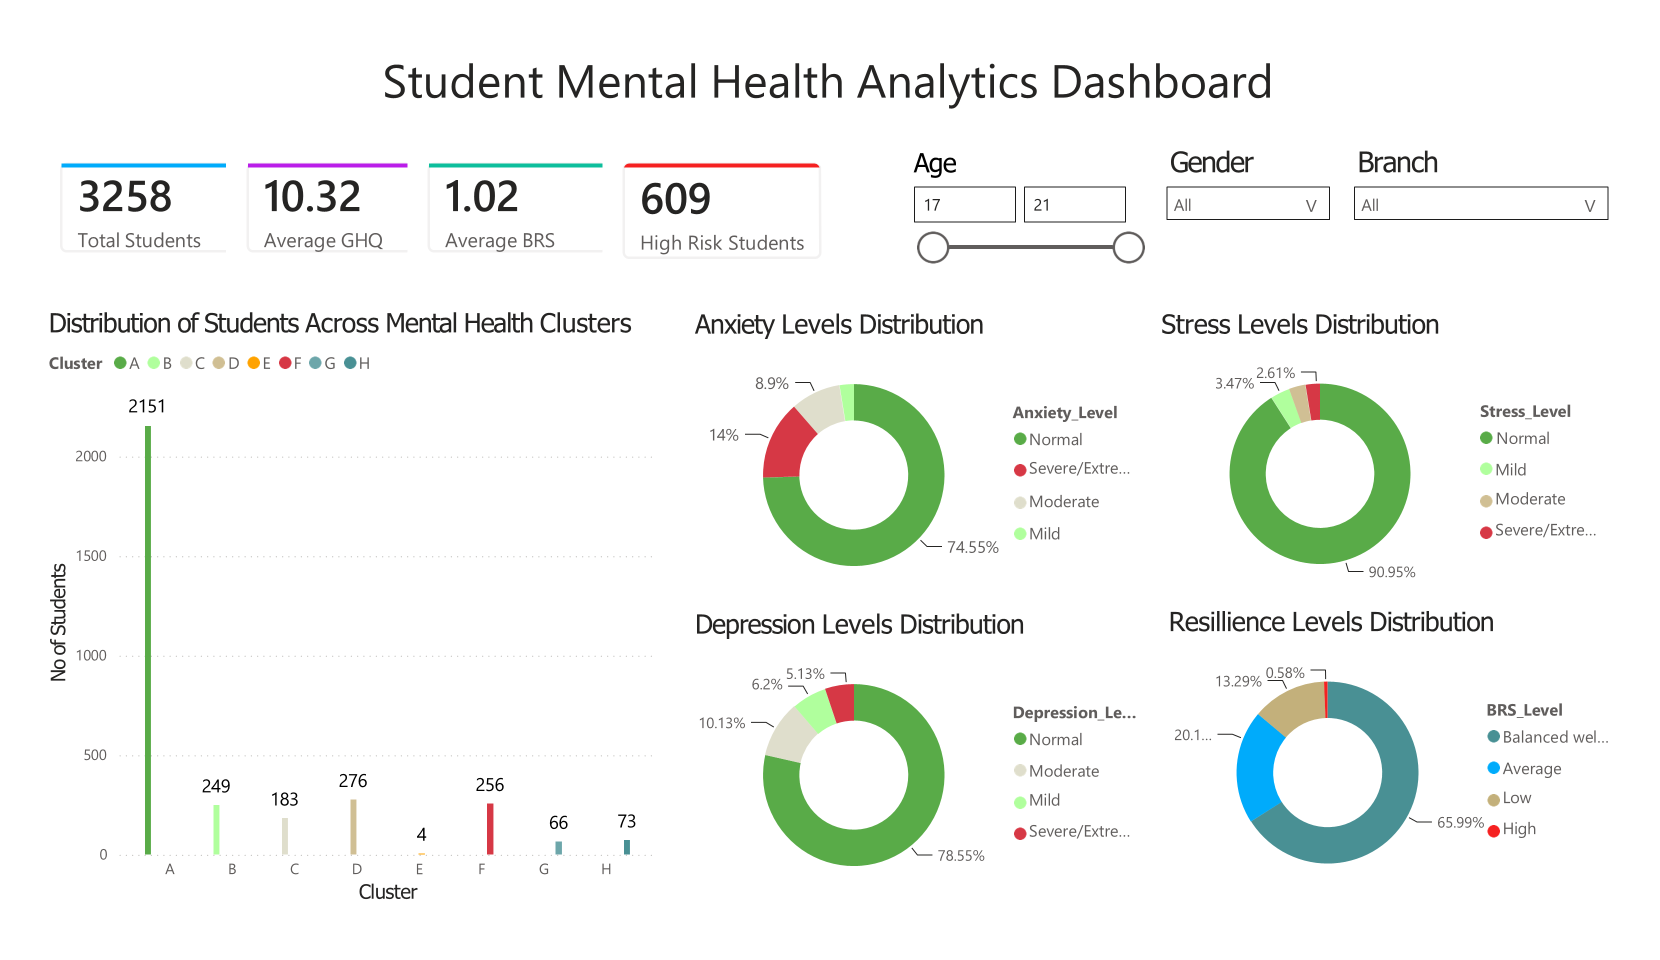

Layout of this report page (visuals, bound fields, positions):
{"tool":"powerbi","page":{"name":"Mental Health Overview","canvas":[1280,720],"ordinal":0},"visuals":[{"type":"textbox","box":[112.7,9.5,1055.6,96.8],"z":0},{"type":"cardVisual","fields":{"Data":["processing.Total Students"]},"box":[7.9,90.5,168.6,104.3],"z":0,"group":"g2"},{"type":"slicer","title":"Age","fields":{"Values":["processing.Age"]},"box":[693.7,91.1,206.3,155.6],"z":0,"group":"g1"},{"type":"group","id":"g1","title":"Group 2","box":[693.7,90.5,579.4,155.6],"z":1000},{"type":"cardVisual","fields":{"Data":["processing.Average GHQ"]},"box":[156.4,90.5,165.7,104.3],"z":2000,"group":"g2"},{"type":"clusteredColumnChart","title":"Distribution of Students Across Mental Health Clusters","fields":{"Category":["processing.Cluster"],"Series":["processing.Cluster"],"Y":["processing.No of Students"]},"box":[7.9,223.8,498.4,479.4],"z":2000},{"type":"cardVisual","fields":{"Data":["processing.Average BRS"]},"box":[302,90.5,175.7,104.3],"z":3000,"group":"g2"},{"type":"donutChart","title":"Anxiety Levels Distribution","fields":{"Category":["processing.Anxiety_Level"],"Y":["processing.No of Students"]},"box":[527,225.4,373,239.7],"z":3000},{"type":"cardVisual","fields":{"Data":["processing.High Risk Students"]},"box":[457.7,90.5,191.4,108.6],"z":4000,"group":"g2"},{"type":"donutChart","title":"Depression Levels Distribution","fields":{"Category":["processing.Depression_Level"],"Y":["processing.No of Students"]},"box":[527,465.1,373,239.7],"z":4000},{"type":"donutChart","title":"Stress Levels Distribution","fields":{"Y":["processing.No of Students"],"Category":["processing.Stress_Level"]},"box":[900,225.4,373,238.1],"z":5000},{"type":"donutChart","title":"Resillience Levels Distribution","fields":{"Category":["processing.BRS_Level"],"Y":["processing.No of Students"]},"box":[906.3,463.5,373,239.7],"z":6000},{"type":"group","id":"g2","title":"Group 1","box":[7.9,90.5,639.7,107.9],"z":7000},{"type":"slicer","fields":{"Values":["processing.Gender"]},"box":[898.7,90.5,151.4,90.6],"z":7000,"group":"g1"},{"type":"slicer","fields":{"Values":["processing.Branch"]},"box":[1048.9,90.5,223.8,103.7],"z":8000,"group":"g1"}]}

Visuals, with their boxes in screenshot pixels (x1, y1, x2, y2), scaled from the page's 1280x720 canvas onto the 1660x960 screenshot:
textbox: (x1=146, y1=13, x2=1515, y2=142)
cardVisual - processing.Total Students: (x1=10, y1=121, x2=229, y2=260)
"Age" slicer: (x1=900, y1=121, x2=1167, y2=329)
"Group 2" group: (x1=900, y1=121, x2=1651, y2=328)
cardVisual - processing.Average GHQ: (x1=203, y1=121, x2=418, y2=260)
"Distribution of Students Across Mental Health Clusters" clusteredColumnChart: (x1=10, y1=298, x2=657, y2=938)
cardVisual - processing.Average BRS: (x1=392, y1=121, x2=620, y2=260)
"Anxiety Levels Distribution" donutChart: (x1=683, y1=301, x2=1167, y2=620)
cardVisual - processing.High Risk Students: (x1=594, y1=121, x2=842, y2=265)
"Depression Levels Distribution" donutChart: (x1=683, y1=620, x2=1167, y2=940)
"Stress Levels Distribution" donutChart: (x1=1167, y1=301, x2=1651, y2=618)
"Resillience Levels Distribution" donutChart: (x1=1175, y1=618, x2=1659, y2=938)
"Group 1" group: (x1=10, y1=121, x2=840, y2=265)
slicer - processing.Gender: (x1=1166, y1=121, x2=1362, y2=241)
slicer - processing.Branch: (x1=1360, y1=121, x2=1651, y2=259)
